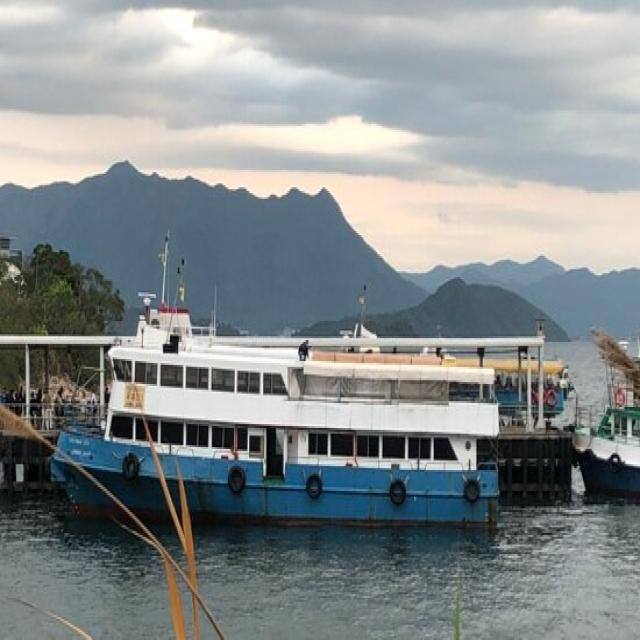passenger ship: (56, 298, 536, 543)
